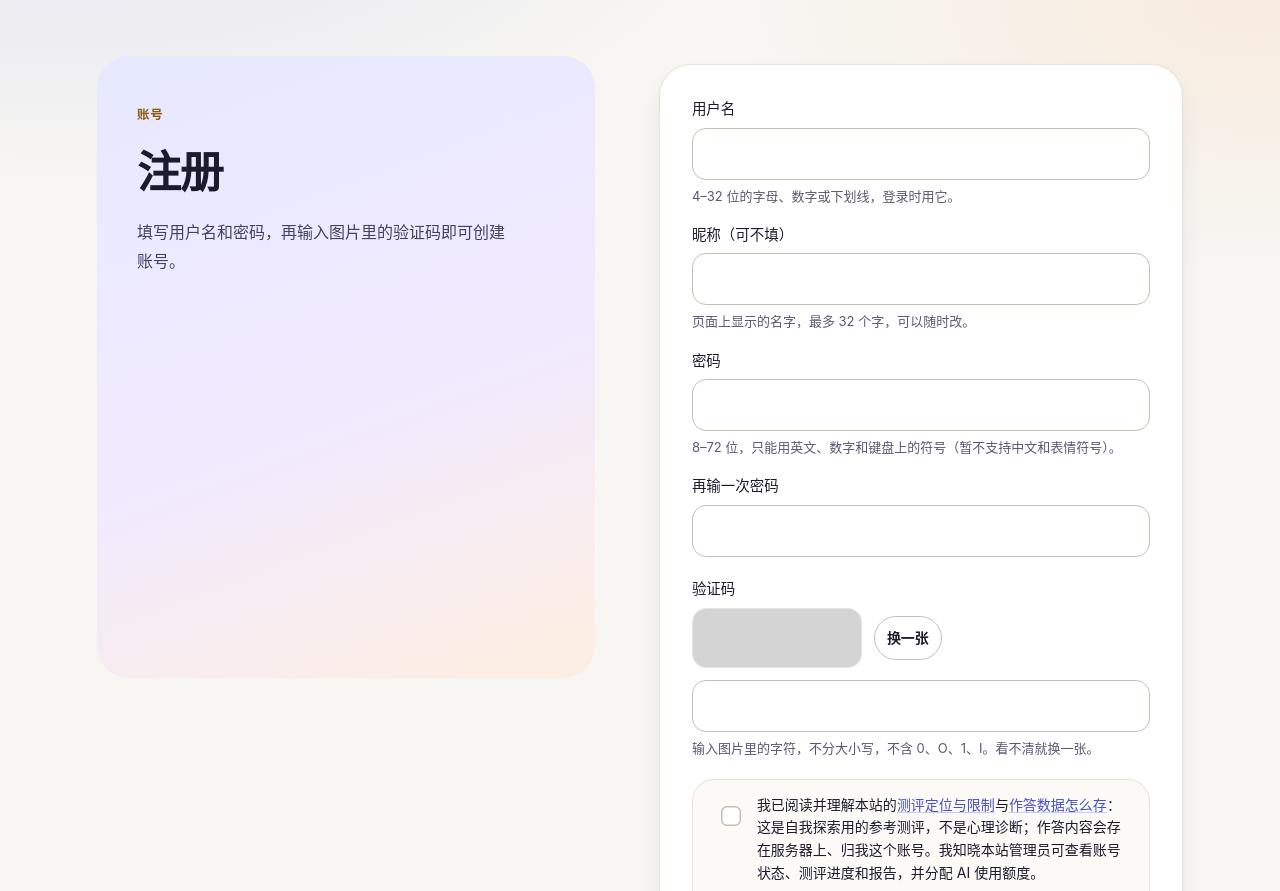
登录页 / 注册页 · 失败提示可见 › 注册失败：验证码不对之类的原因显示在表单里
This screenshot has width=1280, height=891.
Type "ab7k2" into the field named "captchaAnswer" at (921, 706), box [692,680,1150,732]
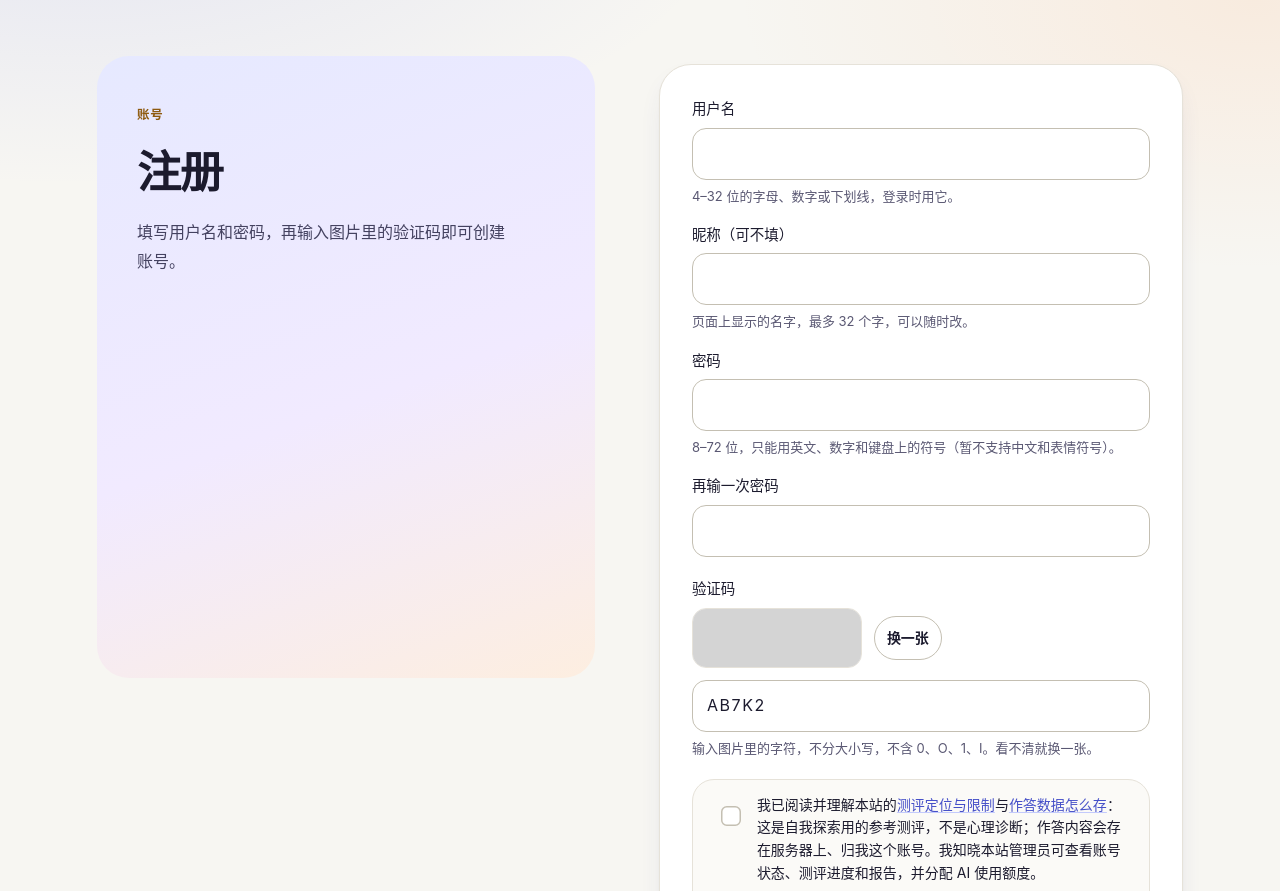
Type "zhangsan" into the field named "username" at (921, 154), box [692,128,1150,180]
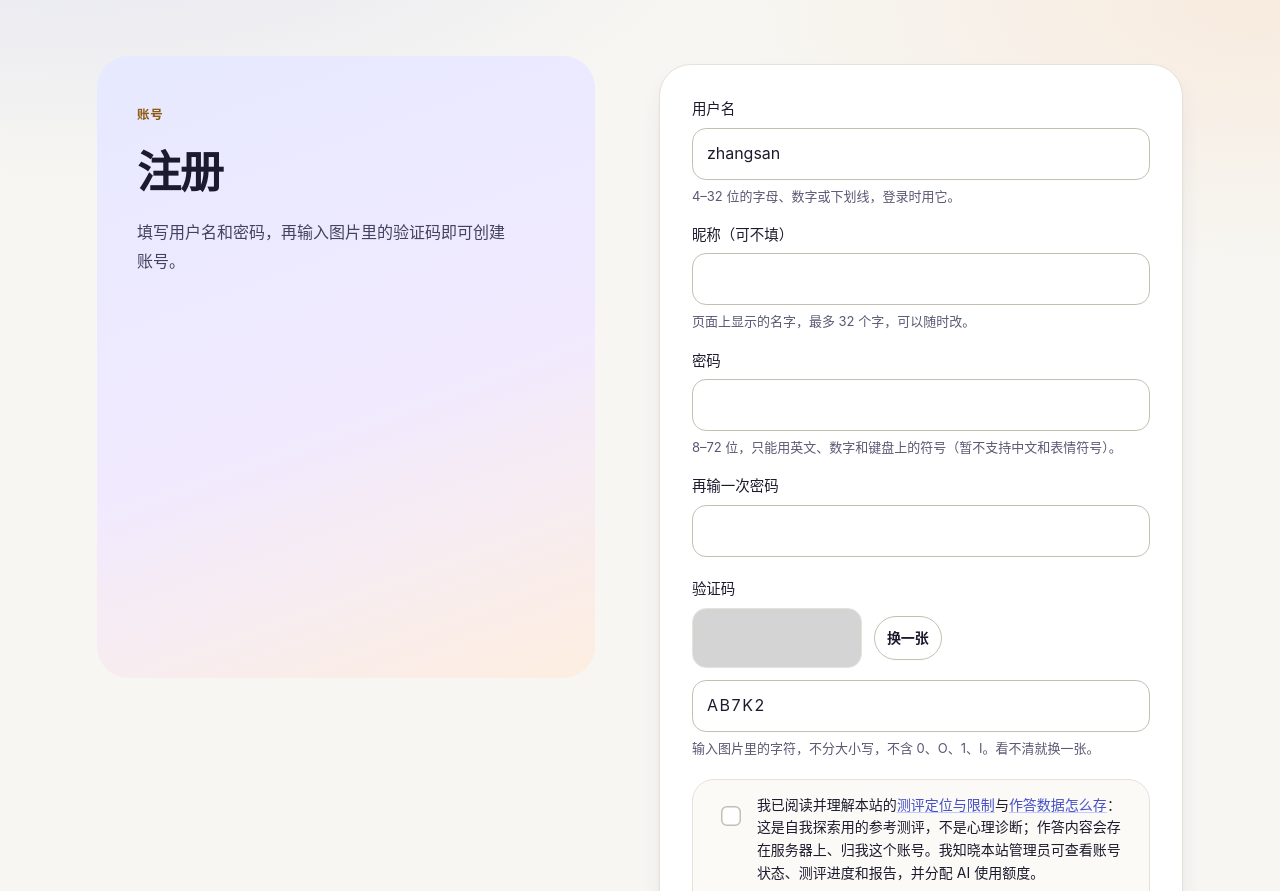
Type "GoodPassw0rd!" into the password field named "new-password" at (921, 405), box [692,379,1150,431]
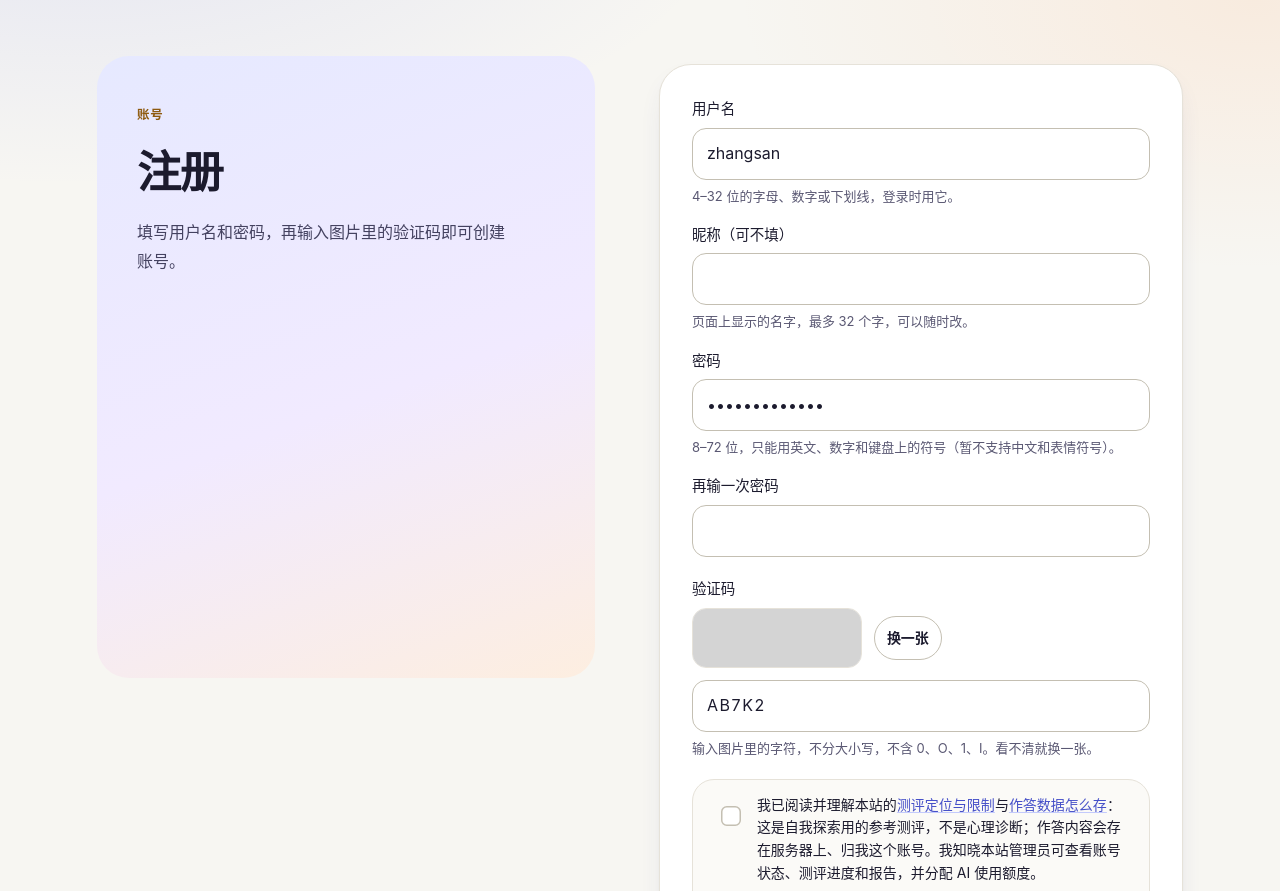
Type "GoodPassw0rd!" into the password field named "confirm-password" at (921, 531), box [692,505,1150,557]
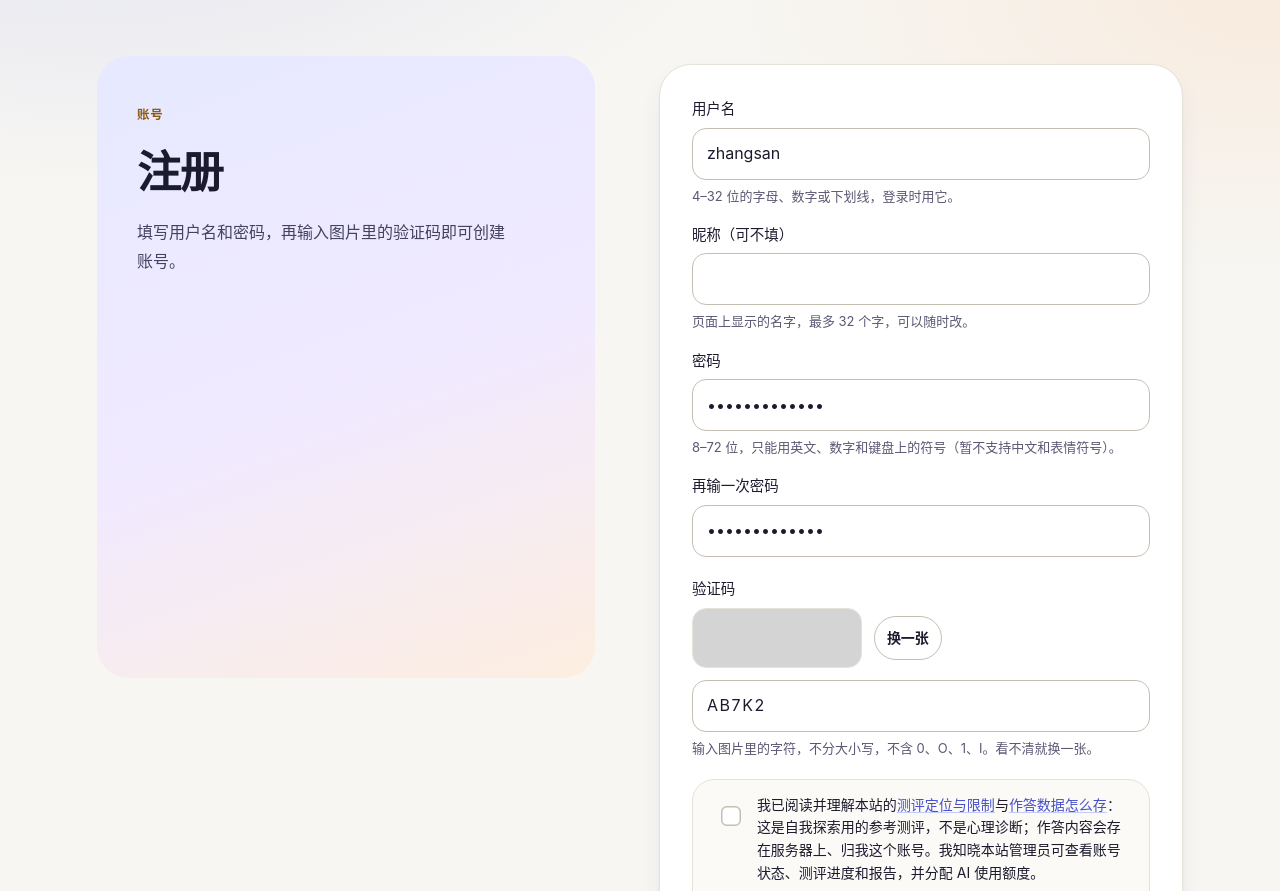
Click the checkbox named "disclaimer-accepted" at (731, 816), box [709,794,753,838]
(page scrolled)
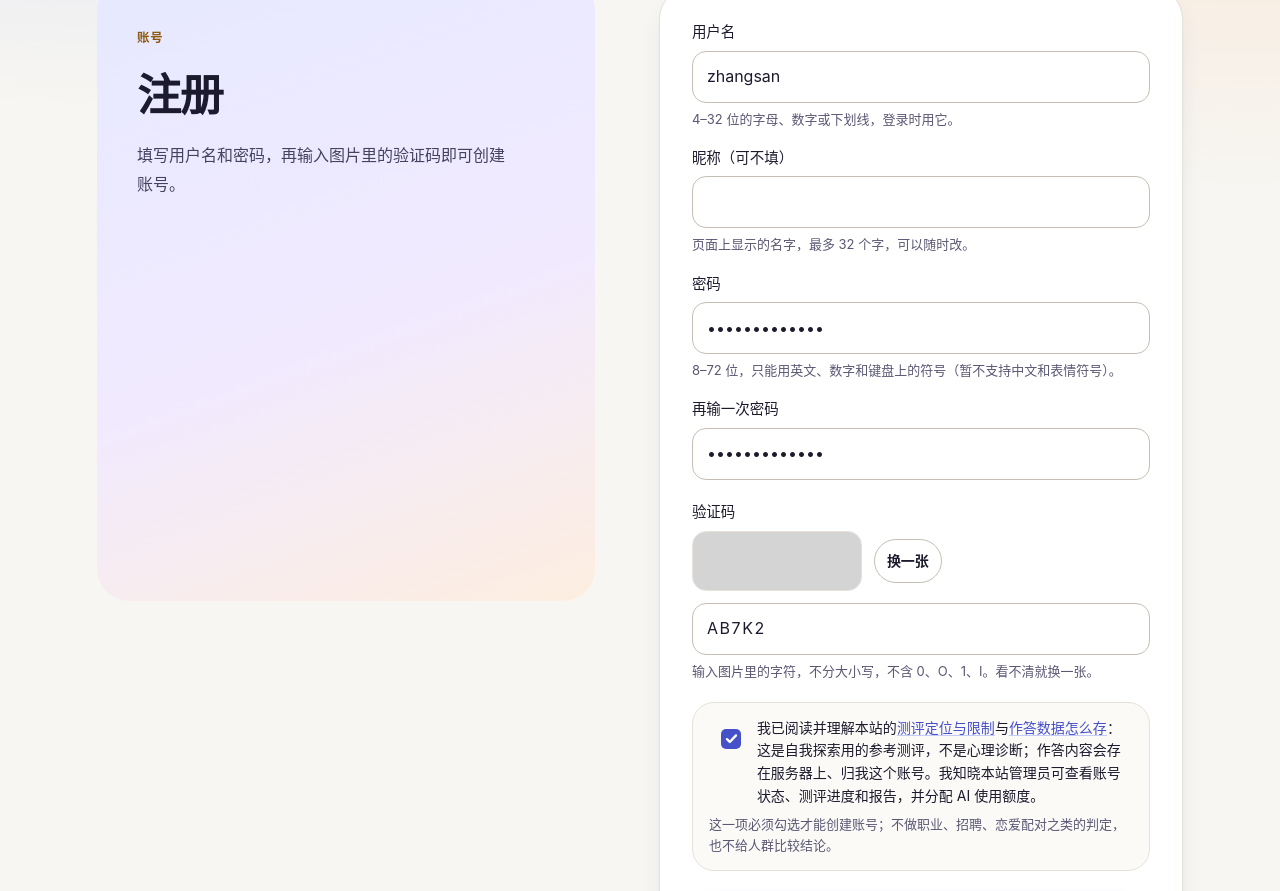
Submit the form
(page scrolled)
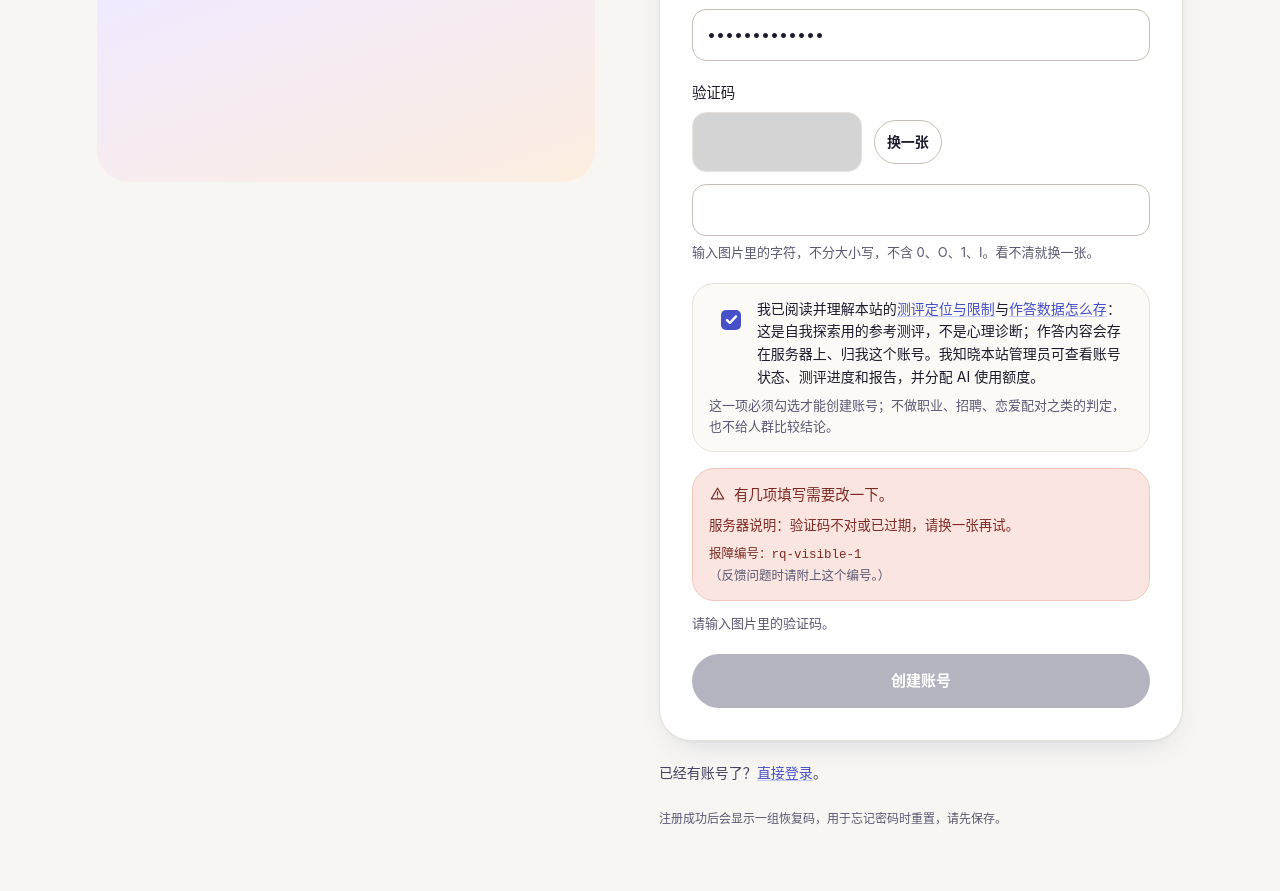
expect the message "有几项填写需要改一下。 服务器说明：验证码不对或已过期，请换一张再试。 报障编号：rq-visible-1 （反馈问题时请附上这个编号。）" is shown: met, box [692,468,1150,601]
